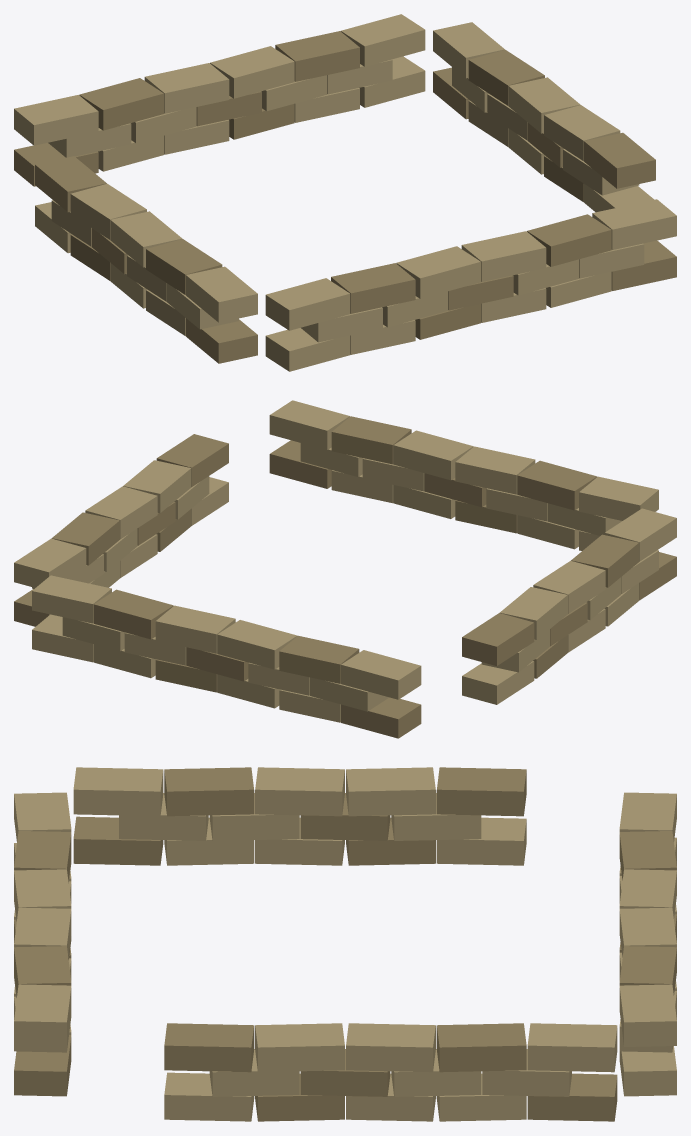
The model's file is SandbagRing.fbx.
3 views of the same model, one above another, from view 1: azimuth 30°, elevation 25°; view 2: azimuth 150°, elevation 25°; view 3: azimuth 270°, elevation 25° (orthographic). The views are drawn at different scales.
Parts seen in each view (by area): view 1: Side1_2_5, Side0_2_0, Side2_2_0, Side3_2_4, Side0_2_2, Side1_2_2, Side0_2_4, Side1_2_0, Side1_2_4, Side0_2_3, Side1_2_3, Side0_2_1 (+50 smaller); view 2: Side0_2_0, Side2_2_4, Side1_2_5, Side1_2_3, Side0_2_3, Side1_2_1, Side0_2_4, Side0_2_2, Side1_2_0, Side1_2_2, Side0_2_1, Side0_2_5 (+48 smaller); view 3: Side2_2_0, Side3_2_0, Side3_2_1, Side3_2_4, Side2_2_1, Side2_2_4, Side2_2_2, Side2_2_3, Side3_2_2, Side3_2_3, Side0_2_5, Side1_2_0 (+30 smaller).
Part boxes in pixels (<box>): Side1_2_5: <box>265,278,350,330</box>; Side0_2_0: <box>14,95,98,145</box>; Side2_2_0: <box>186,266,257,322</box>; Side3_2_4: <box>584,132,655,188</box>; Side0_2_2: <box>144,63,229,113</box>; Side1_2_2: <box>461,231,546,281</box>; Side0_2_4: <box>275,31,359,81</box>; Side1_2_0: <box>592,199,676,249</box>; Side1_2_4: <box>331,263,415,313</box>; Side0_2_3: <box>210,46,294,98</box>; Side1_2_3: <box>396,246,480,298</box>; Side0_2_1: <box>79,78,163,130</box>; Side0_2_0: <box>341,650,421,699</box>; Side2_2_4: <box>462,613,534,665</box>; Side1_2_5: <box>579,476,658,520</box>; Side1_2_3: <box>455,446,535,494</box>; Side0_2_3: <box>155,605,235,653</box>; Side1_2_1: <box>331,416,411,464</box>; Side0_2_4: <box>93,589,173,639</box>; Side0_2_2: <box>217,620,297,669</box>; Side1_2_0: <box>269,400,349,449</box>; Side1_2_2: <box>393,430,473,480</box>; Side0_2_1: <box>279,635,359,683</box>; Side0_2_5: <box>32,575,111,623</box>; Side2_2_0: <box>73,767,163,816</box>; Side3_2_0: <box>527,1023,617,1072</box>; Side3_2_1: <box>436,1023,526,1072</box>; Side3_2_4: <box>164,1023,254,1072</box>; Side2_2_1: <box>164,767,254,816</box>; Side2_2_4: <box>436,767,526,816</box>; Side2_2_2: <box>255,767,344,816</box>; Side2_2_3: <box>346,767,435,816</box>; Side3_2_2: <box>346,1023,435,1072</box>; Side3_2_3: <box>255,1023,344,1072</box>; Side0_2_5: <box>619,984,676,1046</box>; Side1_2_0: <box>14,984,71,1046</box>.
Bounding box in the file's own units: 438 × 438 × 54.
